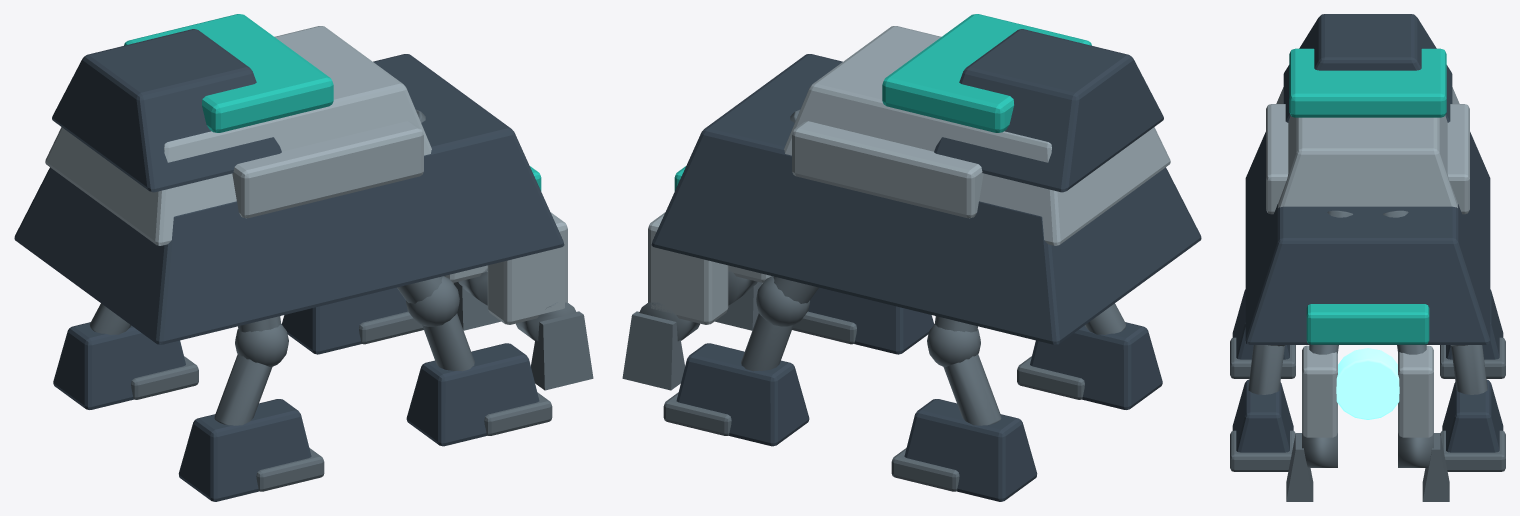
Rendered from SM_Drudge.fbx.
The picture shows the model from 3 angles, left to right: view 1: azimuth 30°, elevation 25°; view 2: azimuth 150°, elevation 25°; view 3: azimuth 270°, elevation 25°; orthographic projection. The views are drawn at different scales.
Visible parts, largest first — view 1: SM_Drudge; view 2: SM_Drudge; view 3: SM_Drudge.
Part boxes in pixels (x1=…): SM_Drudge: x1=14, y1=14, x2=593, y2=501; SM_Drudge: x1=622, y1=14, x2=1201, y2=501; SM_Drudge: x1=1230, y1=14, x2=1505, y2=501.
Size of the model in its own units: 32 by 19.91 by 25.
